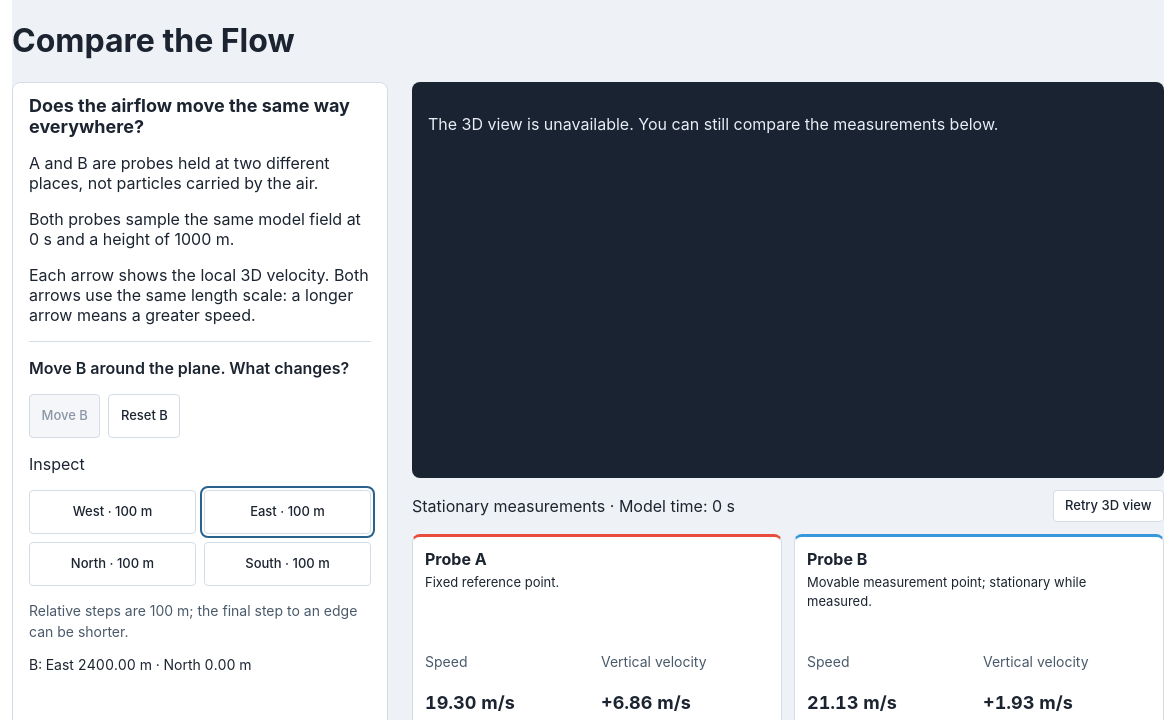
Scenario: shows real A/B and relative controls without WebGL, with placement unavailable
The width and height of the screenshot is (1176, 720).
Expected: the button "Move B" is disabled, [29,394,100,438]
Click the button "East · 100 m".
click(288, 512)  # box [204,490,371,534]
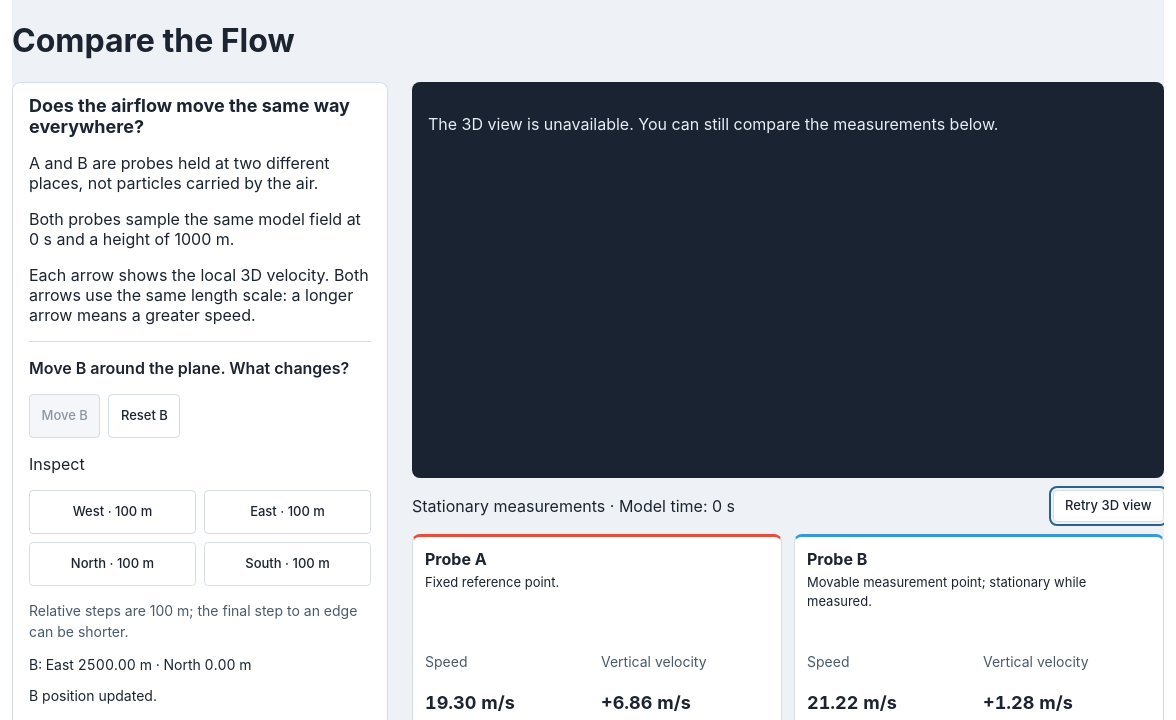
Now the text named "B coordinates" shows "2500.00", box [78,656,136,673]
Click the button "Retry 3D view".
click(1108, 506)  # box [1052,490,1164,522]
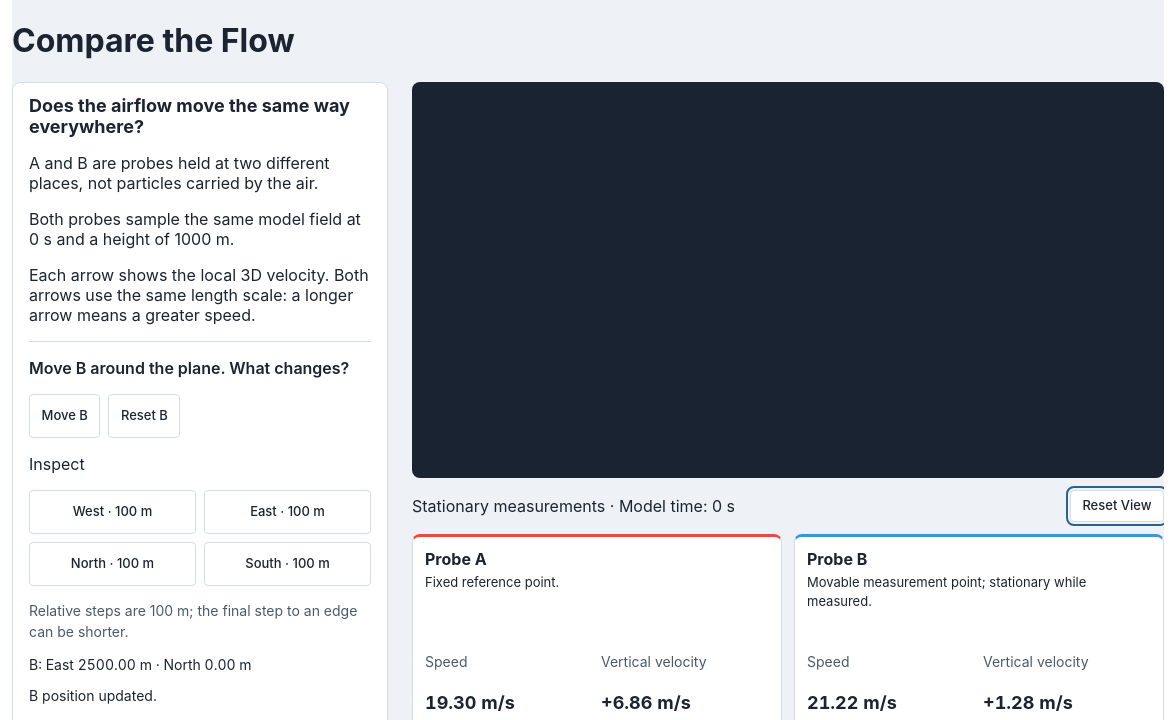
Now the message with class "learn__unavailable" is gone
